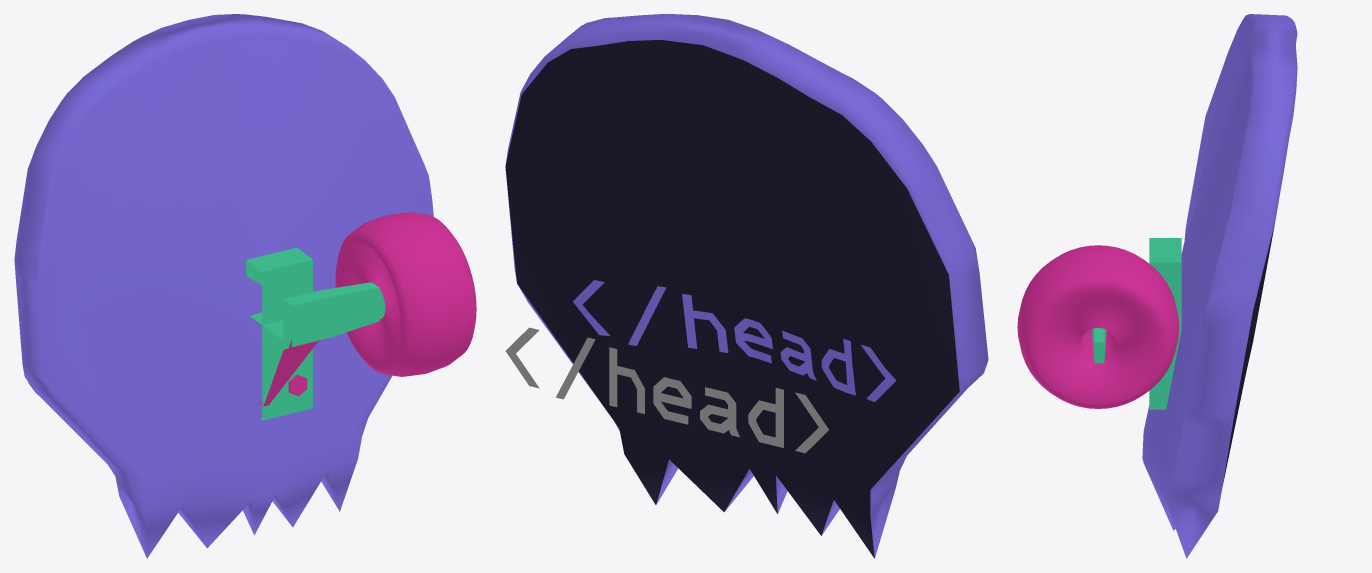
File: skullBoardAnimation002.glb
3 views of the same model, side by side, from view 1: azimuth 30°, elevation 25°; view 2: azimuth 150°, elevation 25°; view 3: azimuth 270°, elevation 25° (orthographic). The views are drawn at different scales.
Parts seen in each view (by area): view 1: board, wheels, trucks; view 2: board, Text; view 3: board, wheels, trucks.
Part boxes in pixels (x1=…): board: x1=14, y1=14, x2=433, y2=558; wheels: x1=335, y1=212, x2=476, y2=376; trucks: x1=246, y1=247, x2=385, y2=420; board: x1=505, y1=14, x2=988, y2=558; Text: x1=505, y1=327, x2=828, y2=453; board: x1=1142, y1=14, x2=1297, y2=558; wheels: x1=1017, y1=245, x2=1179, y2=408; trucks: x1=1092, y1=238, x2=1181, y2=409.
Size of the model in its own units: 1.66 by 1.91 by 1.25.
